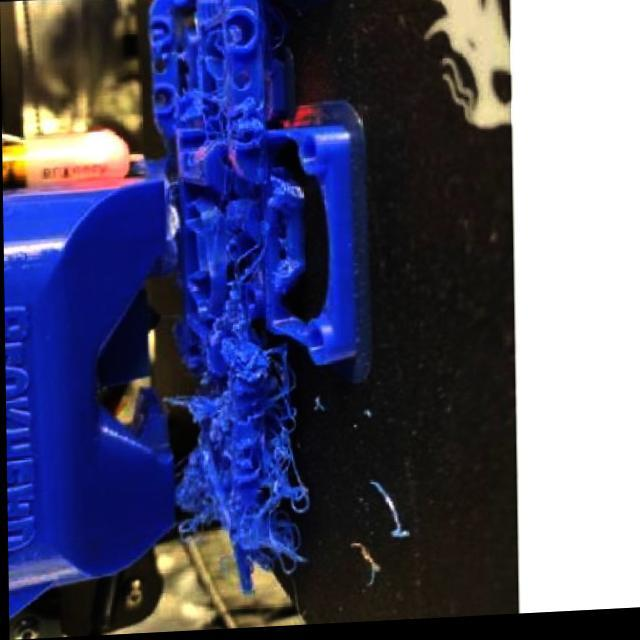spaghetti: (158, 220, 307, 600), (180, 82, 263, 164)
